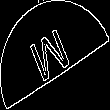M_SE: (30, 22, 80, 88)
